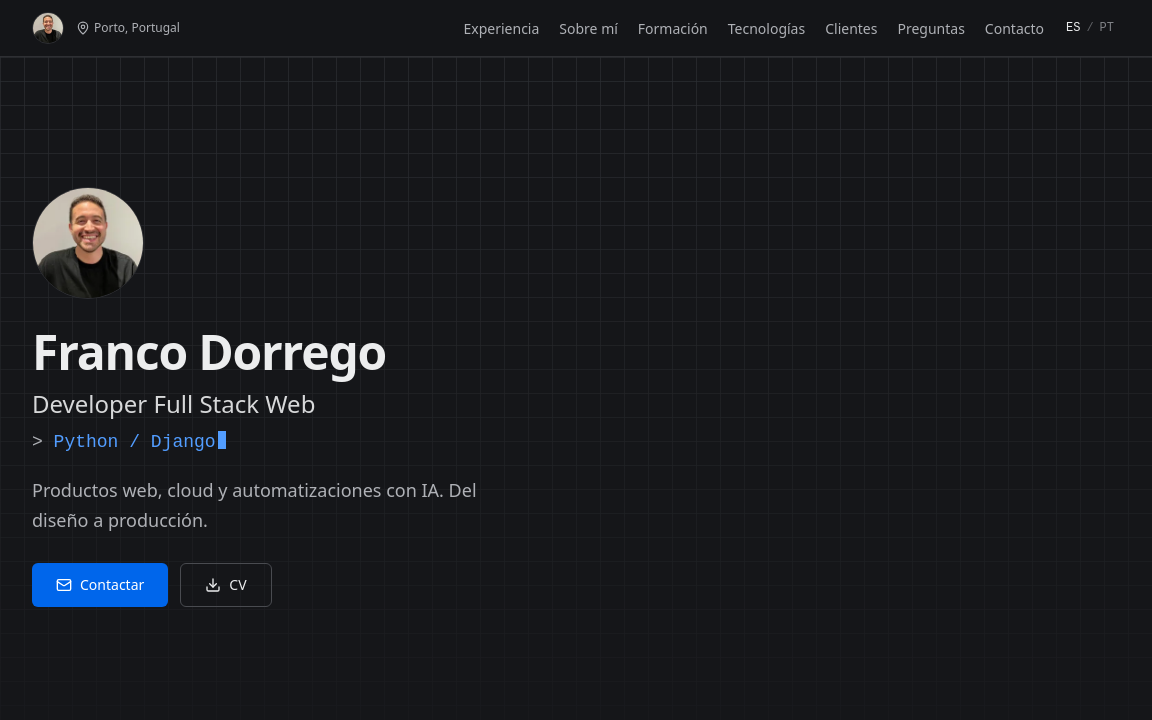
pagina de inicio › cambia todos los textos al pasar a portugues y lo recuerda
This screenshot has width=1152, height=720.
Click the button with aria-label "Português" at [1107, 28], box x1=1094 y1=16 x2=1120 y2=40
(page scrolled)
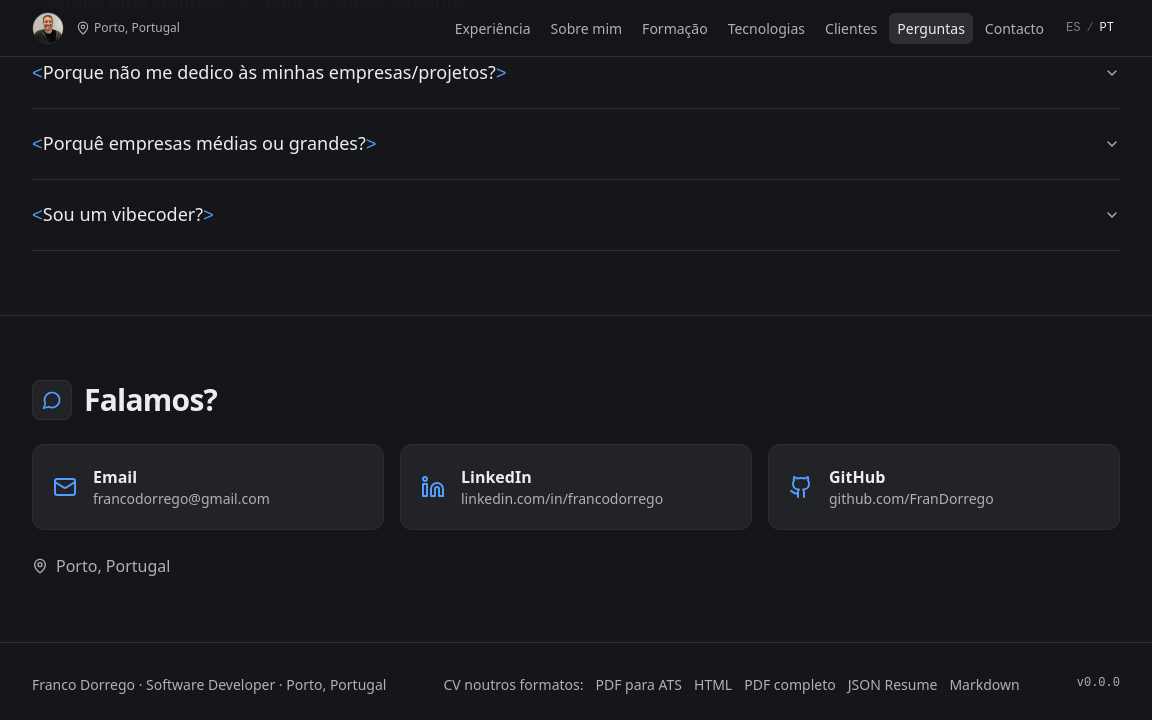
Result: the heading "Falamos?" is shown at x1=32 y1=379 x2=217 y2=420
Result: the link "Experiencia" is gone
